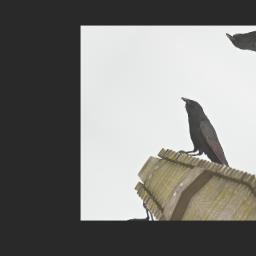Crow: (154, 92, 251, 182)
